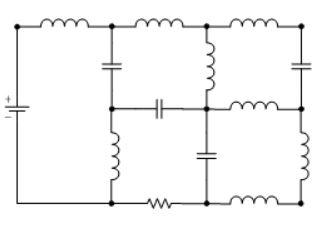inductor: (215, 8, 284, 36), (122, 6, 187, 34), (195, 38, 228, 92), (99, 127, 129, 186), (288, 128, 315, 188), (31, 9, 92, 35), (222, 187, 284, 210), (221, 98, 281, 113)
